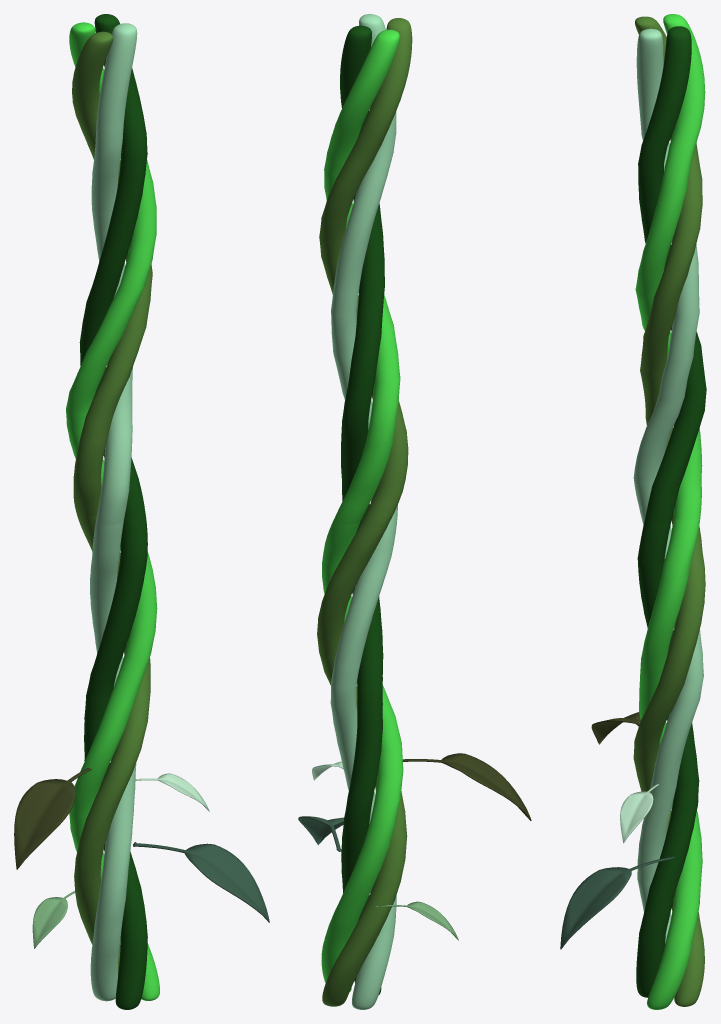
Rendered from BigBeanStalk.fbx.
The picture shows the model from 3 angles, left to right: view 1: azimuth 30°, elevation 25°; view 2: azimuth 150°, elevation 25°; view 3: azimuth 270°, elevation 25°; orthographic projection.
Visible parts, largest first — view 1: BigBeanstalkBody, Leaf_3, Leaf_1, Leaf_2, Leaf_4; view 2: BigBeanstalkBody, Leaf_3, Leaf_1, Leaf_2; view 3: BigBeanstalkBody, Leaf_1, Leaf_4, Leaf_3.
Part boxes in pixels (x1,y1,x2,y2): BigBeanstalkBody: [66, 14, 159, 1009]; Leaf_3: [14, 768, 91, 869]; Leaf_1: [133, 842, 269, 922]; Leaf_2: [32, 891, 74, 948]; Leaf_4: [135, 773, 209, 811]; BigBeanstalkBody: [317, 14, 412, 1009]; Leaf_3: [402, 753, 531, 820]; Leaf_1: [298, 816, 344, 851]; Leaf_2: [375, 901, 458, 940]; BigBeanstalkBody: [633, 14, 706, 1009]; Leaf_1: [560, 856, 674, 949]; Leaf_4: [620, 784, 658, 843]; Leaf_3: [591, 712, 640, 744].
Bounding box in the file's own units: 360 × 1441 × 198.
